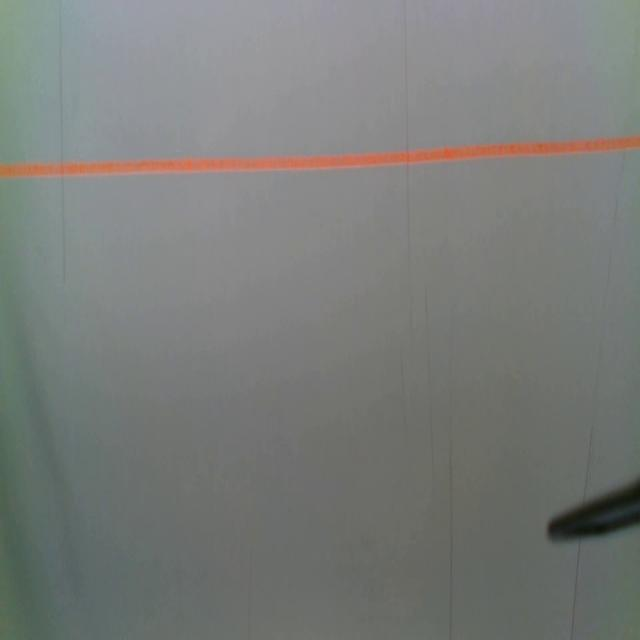crease: (583, 150, 626, 493), (58, 0, 70, 289), (401, 2, 413, 282), (445, 361, 456, 640), (421, 288, 436, 476), (567, 542, 583, 640), (244, 542, 255, 640), (398, 350, 409, 437)
